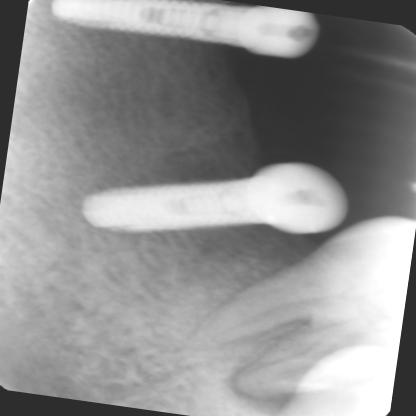Bego: (64, 163, 262, 253), (53, 0, 241, 62)
